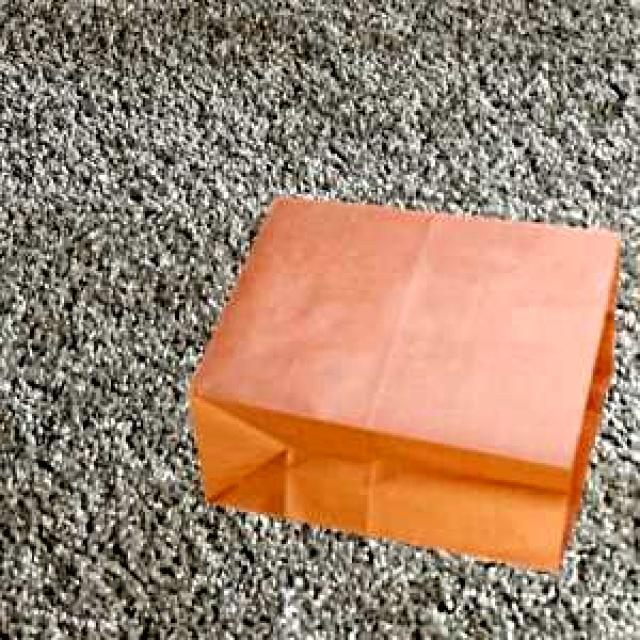Paper_Bag: (185, 193, 618, 569)
